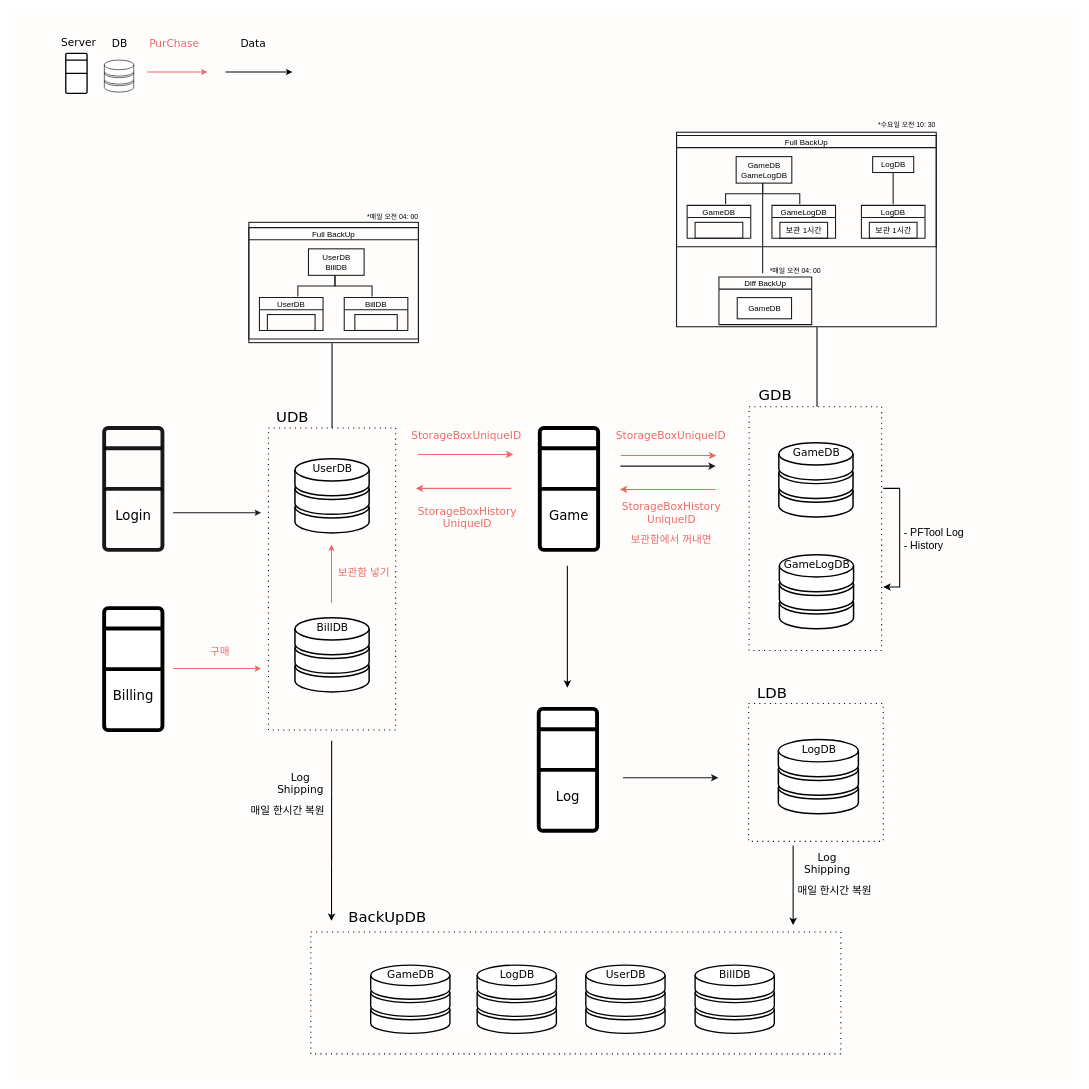
Some shapes in this 1089 by 1089 pixel diagram are drawn without their labels. Here are the shapes that lost their labels. From the top down, the centre of each, then its label:
point 718,230: 보관 30일
point 291,322: 보관 15일
point 376,322: 보관 3일
